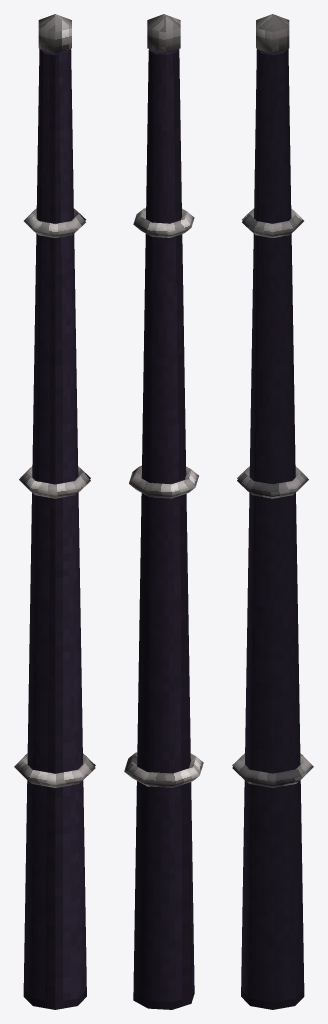
File: ebony_wand.glb
3 views of the same model, side by side, from view 1: azimuth 90°, elevation 25°; view 2: azimuth 150°, elevation 25°; view 3: azimuth 270°, elevation 25° (orthographic).
Parts seen in each view (by area): view 1: ebony_wand; view 2: ebony_wand; view 3: ebony_wand.
Boxes of the visible parts, x1=… form: ebony_wand: x1=14, y1=14, x2=95, y2=1009; ebony_wand: x1=124, y1=14, x2=203, y2=1009; ebony_wand: x1=232, y1=14, x2=313, y2=1009.
Bounding box in the file's own units: 0.026 × 0.342 × 0.0258.
Materials: 1 (1 with a texture image).
